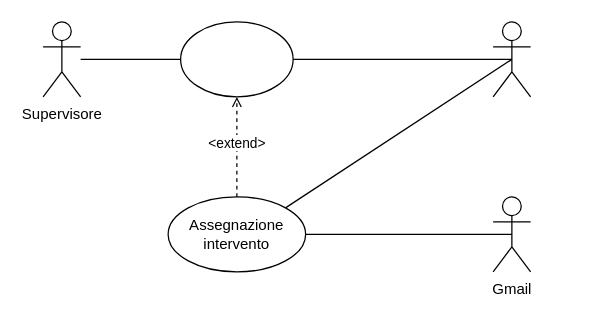
Image size: 598x320. Some labels were removed from this diagram. The shapes that lost their labels are listed below. From the top down, each one's centre as x and y in pixels, then its label:
At [236,59]: "Visualizzazione interventi".
At [511,59]: "Ardeeno DataLayer".
